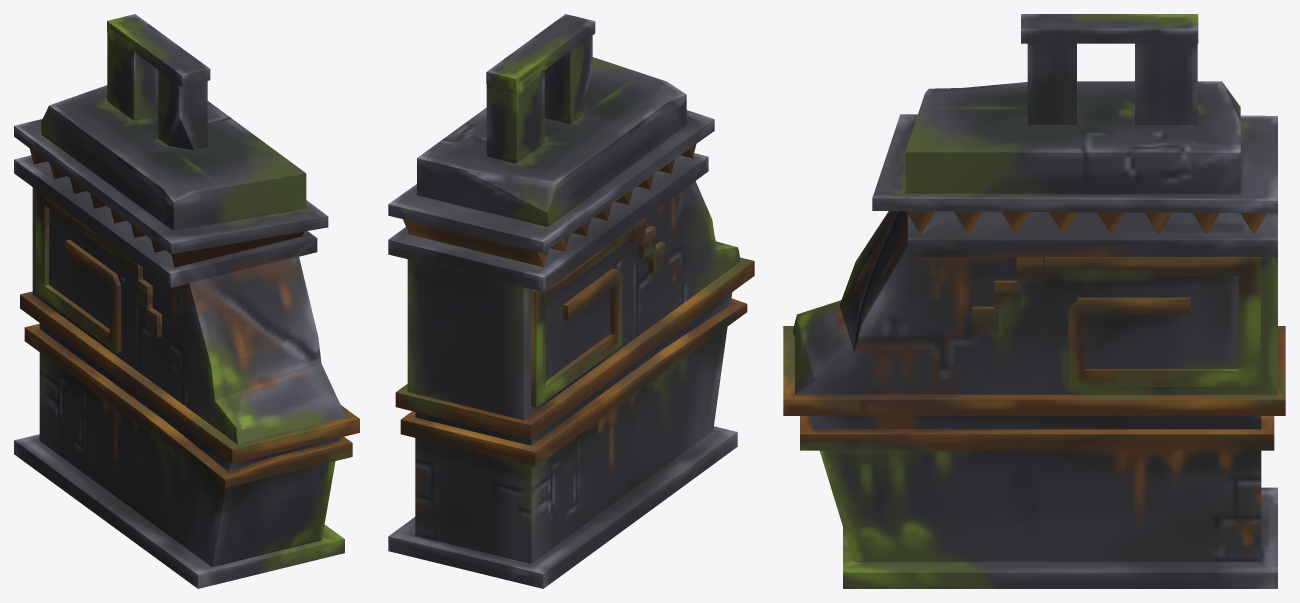
Rendered from RuinBrokenWall.fbx.
3 renders of one model, left to right at view 1: azimuth 30°, elevation 25°; view 2: azimuth 150°, elevation 25°; view 3: azimuth 270°, elevation 25°, orthographic. The views are drawn at different scales.
Visible parts, largest first — view 1: BigWall_Broken; view 2: BigWall_Broken; view 3: BigWall_Broken.
Boxes of the visible parts, x1=… form: BigWall_Broken: x1=14, y1=14, x2=359, y2=588; BigWall_Broken: x1=388, y1=14, x2=754, y2=588; BigWall_Broken: x1=783, y1=14, x2=1285, y2=588.
Bounding box in the file's own units: 107 × 303 × 263.
